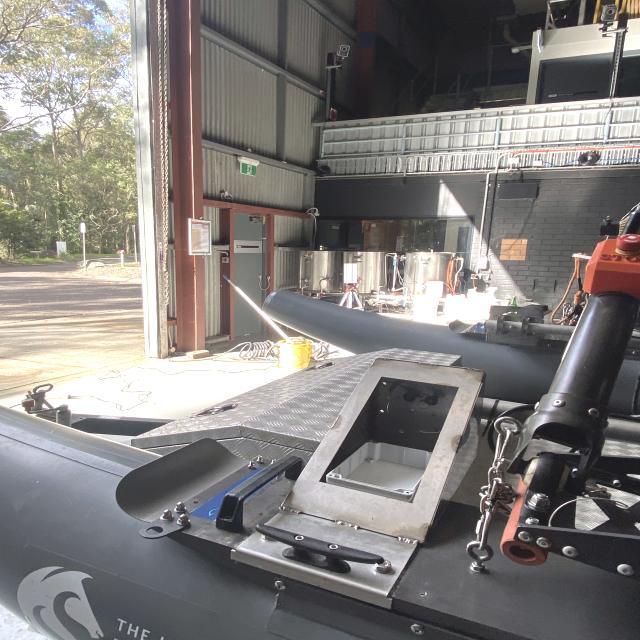matrix: (342, 260, 362, 288)
